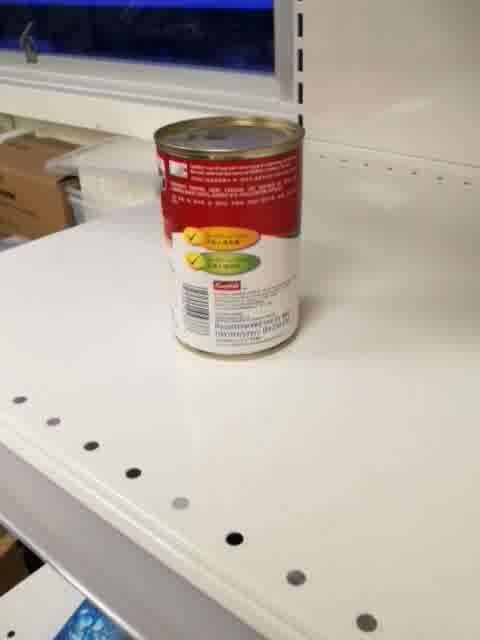tomatosoup: (152, 112, 307, 363)
